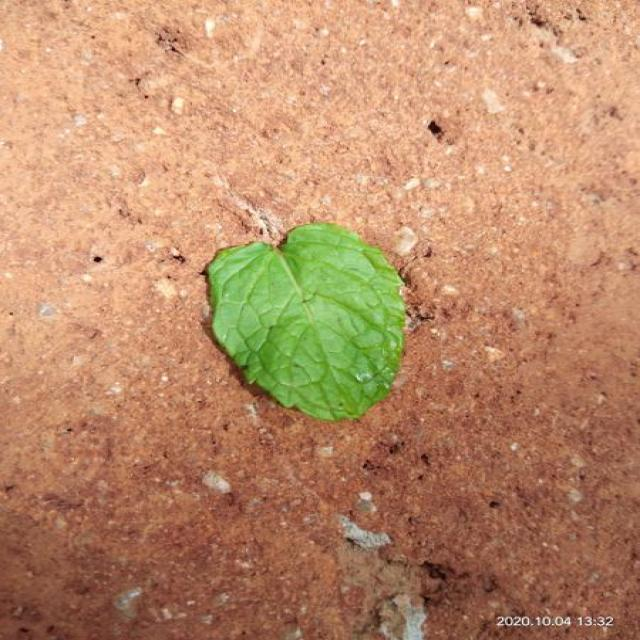mint: (207, 222, 405, 421)
